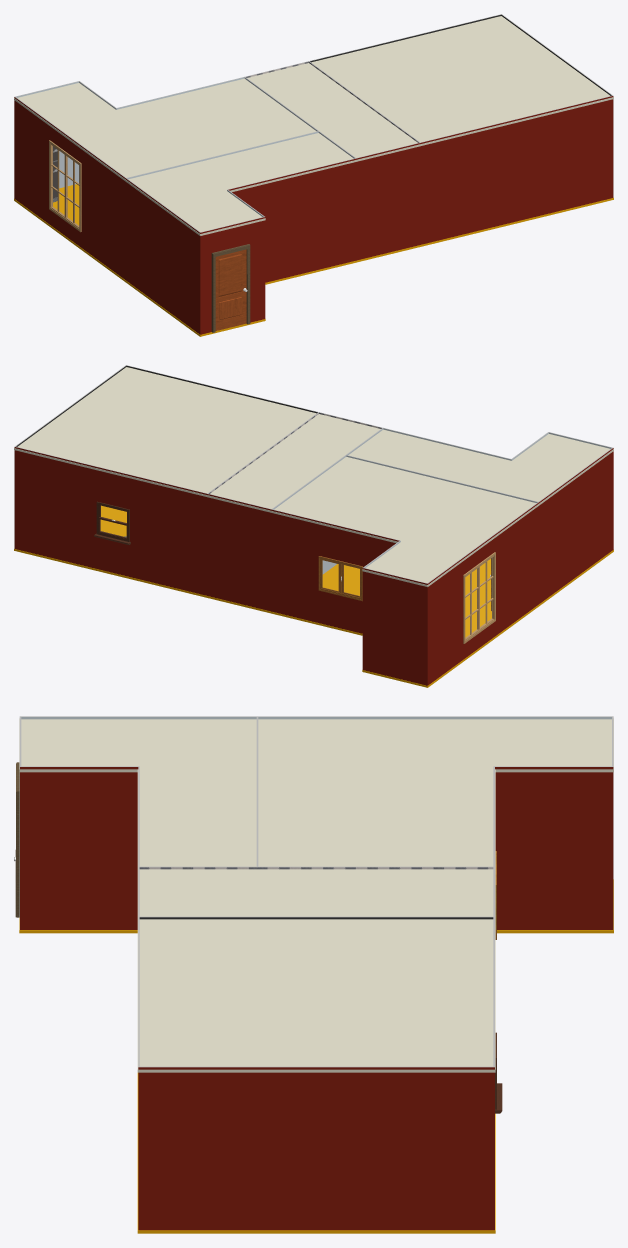
Rendered from ProcTHOR-Train-164.glb.
3 views of the same model, one above another, from view 1: azimuth 30°, elevation 25°; view 2: azimuth 150°, elevation 25°; view 3: azimuth 270°, elevation 25° (orthographic). The views are drawn at different scales.
Visible parts, largest first — view 1: Ceiling#room|4|c, WallInside#wall|exterior|0.00|7.16|5.37|7.16, Ceiling#room|6|c, WallInside#wall|exterior|7.16|7.16|10.73|7.16, Ceiling#room|7|c, WallInside#wall|exterior|12.52|0.00|12.52|5.37, WallInside#wall|exterior|12.52|5.37|12.52|8.95, Ceiling#room|5|c, WallInside#wall|exterior|5.37|7.16|7.16|7.16, WallInside#wall|exterior|10.73|8.95|12.52|8.95, Doorway_4, Window_Fixed_60x72 (+4 smaller); view 2: Ceiling#room|4|c, WallInside#wall|exterior|0.00|1.79|5.37|1.79, Ceiling#room|6|c, WallInside#wall|exterior|12.52|0.00|12.52|5.37, Ceiling#room|7|c, WallInside#wall|exterior|7.16|1.79|10.73|1.79, WallInside#wall|exterior|12.52|5.37|12.52|8.95, Ceiling#room|5|c, WallInside#wall|exterior|10.73|0.00|12.52|0.00, WallInside#wall|exterior|5.37|1.79|7.16|1.79, Floor#room|6|f, Window_Fixed_60x72 (+4 smaller); view 3: WallInside#wall|exterior|0.00|1.79|0.00|7.16, Ceiling#room|4|c, Ceiling#room|6|c, Ceiling#room|7|c, WallInside#wall|exterior|10.73|0.00|10.73|1.79, WallInside#wall|exterior|10.73|7.16|10.73|8.95, Ceiling#room|5|c, Floor#room|4|f, WallInside#wall|6|12.52|0.00|12.52|5.37, WallInside#wall|4|5.37|1.79|5.37|7.16, WallInside#wall|7|12.52|5.37|12.52|8.95, WallInside#wall|5|7.16|1.79|7.16|5.37 (+1 smaller).
Boxes of the visible parts, x1,y1,x2,y2 form: Ceiling#room|4|c: (310,16,613,146); WallInside#wall|exterior|0.00|7.16|5.37|7.16: (420,96,613,244); Ceiling#room|6|c: (14,78,316,181); WallInside#wall|exterior|7.16|7.16|10.73|7.16: (228,158,356,282); Ceiling#room|7|c: (125,133,355,235); WallInside#wall|exterior|12.52|0.00|12.52|5.37: (14,97,125,279); WallInside#wall|exterior|12.52|5.37|12.52|8.95: (125,178,200,334); Ceiling#room|5|c: (247,63,419,161); WallInside#wall|exterior|5.37|7.16|7.16|7.16: (356,142,420,260); WallInside#wall|exterior|10.73|8.95|12.52|8.95: (200,217,265,334); Doorway_4: (211,244,250,332); Window_Fixed_60x72: (49,140,81,232); Ceiling#room|4|c: (14,367,318,497); WallInside#wall|exterior|0.00|1.79|5.37|1.79: (14,446,207,595); Ceiling#room|6|c: (272,457,539,586); WallInside#wall|exterior|12.52|0.00|12.52|5.37: (427,502,539,685); Ceiling#room|7|c: (348,429,613,504); WallInside#wall|exterior|7.16|1.79|10.73|1.79: (271,509,399,633); WallInside#wall|exterior|12.52|5.37|12.52|8.95: (539,448,613,603); Ceiling#room|5|c: (207,414,380,512); WallInside#wall|exterior|10.73|0.00|12.52|0.00: (362,568,427,685); WallInside#wall|exterior|5.37|1.79|7.16|1.79: (208,494,271,611); Floor#room|6|f: (272,564,539,687); Window_Fixed_60x72: (463,552,495,643); WallInside#wall|exterior|0.00|1.79|0.00|7.16: (138,1067,494,1230); Ceiling#room|4|c: (137,918,495,1072); Ceiling#room|6|c: (256,718,613,869); Ceiling#room|7|c: (19,718,258,869); WallInside#wall|exterior|10.73|0.00|10.73|1.79: (495,766,613,929); WallInside#wall|exterior|10.73|7.16|10.73|8.95: (20,766,138,929); Ceiling#room|5|c: (137,869,495,919); Floor#room|4|f: (137,1080,495,1233); WallInside#wall|6|12.52|0.00|12.52|5.37: (257,716,612,719); WallInside#wall|4|5.37|1.79|5.37|7.16: (139,917,493,919); WallInside#wall|7|12.52|5.37|12.52|8.95: (20,716,256,719); WallInside#wall|5|7.16|1.79|7.16|5.37: (257,867,493,869).
Size of what is drawn, in the model's own units: 12.58 by 2.77 by 9.06.
210 materials, 66 textured.
